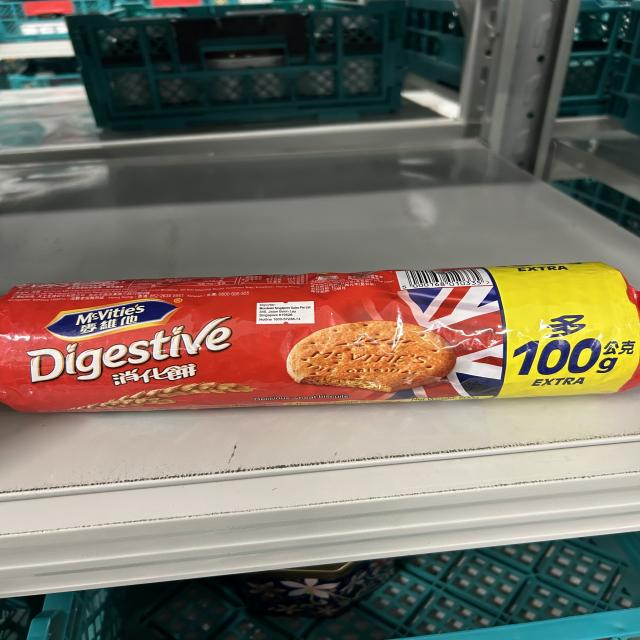object_name: (0, 276, 640, 397)
